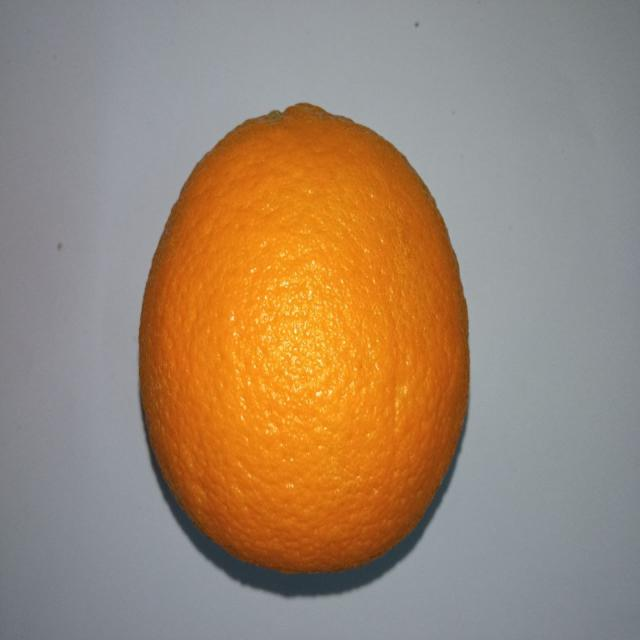fresh_orange: (137, 105, 470, 576)
